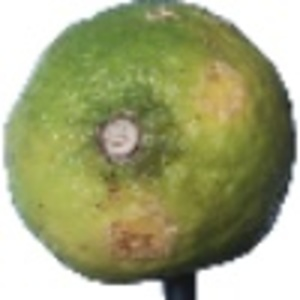limão: (1, 1, 298, 300)
